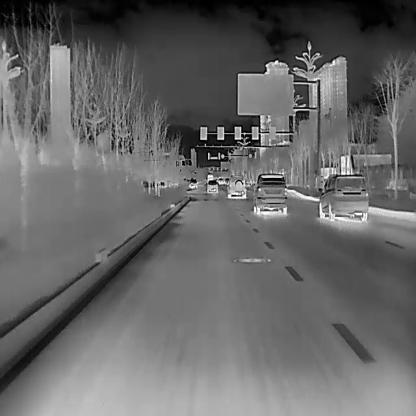car: (318, 173, 367, 221), (252, 172, 286, 213), (226, 174, 246, 197), (205, 180, 218, 192)
